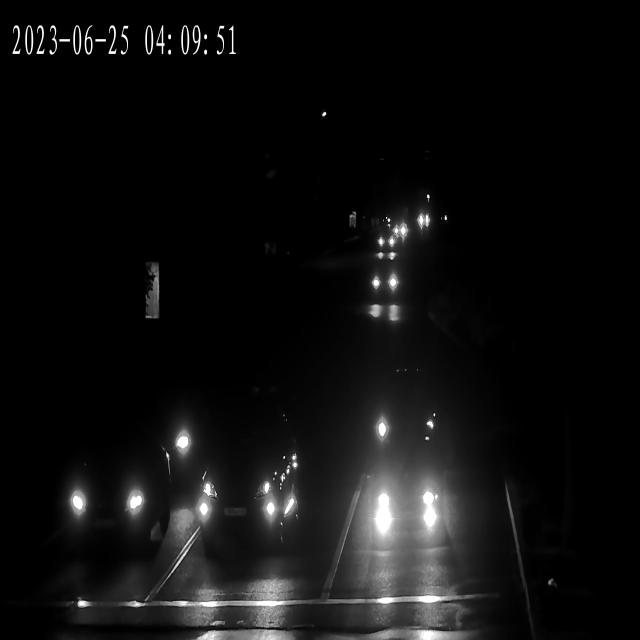Car: (57, 438, 174, 556), (183, 446, 301, 551), (366, 437, 447, 552), (368, 356, 435, 460), (129, 408, 194, 483), (368, 268, 404, 295), (376, 232, 400, 251), (390, 220, 410, 235), (417, 213, 434, 226)
